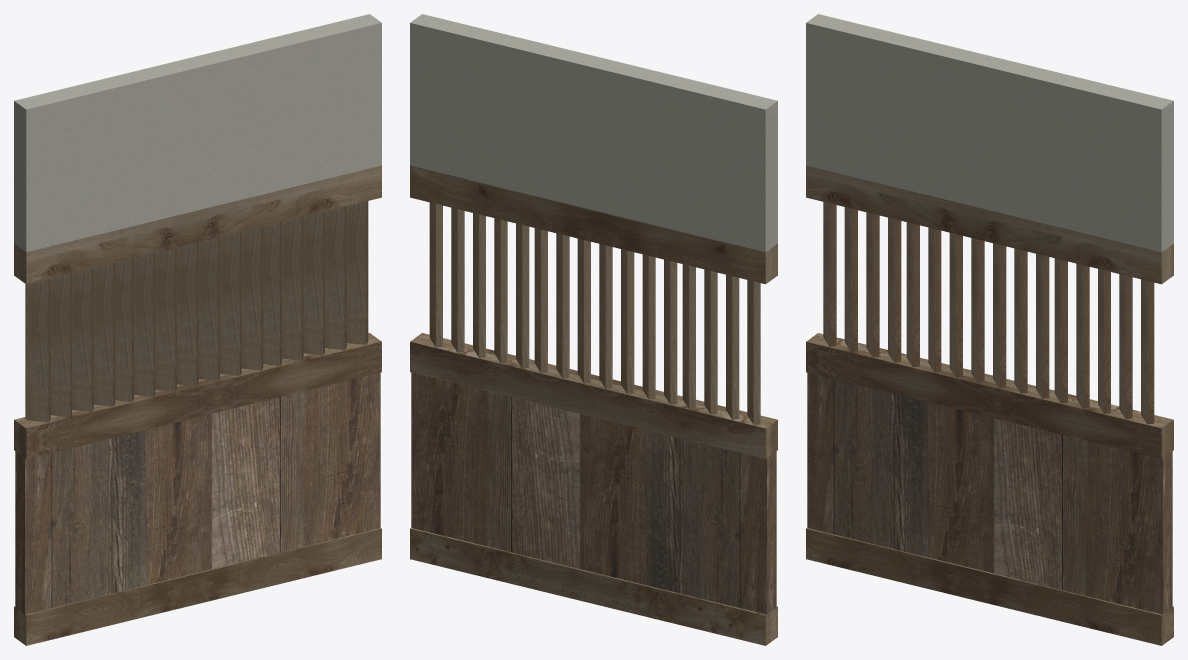
File: SM_Sun_Toilet_Wall_H.fbx
3 views of the same model, side by side, from view 1: azimuth 30°, elevation 25°; view 2: azimuth 150°, elevation 25°; view 3: azimuth 330°, elevation 25° (orthographic).
Parts seen in each view (by area): view 1: SM_Sun_Toilet_Wall_H; view 2: SM_Sun_Toilet_Wall_H; view 3: SM_Sun_Toilet_Wall_H.
Part boxes in pixels (x1,y1,x2,y2): SM_Sun_Toilet_Wall_H: [14, 14, 381, 645]; SM_Sun_Toilet_Wall_H: [410, 14, 777, 645]; SM_Sun_Toilet_Wall_H: [806, 14, 1173, 645].
Size of the model in its own units: 170 by 245 by 10.
